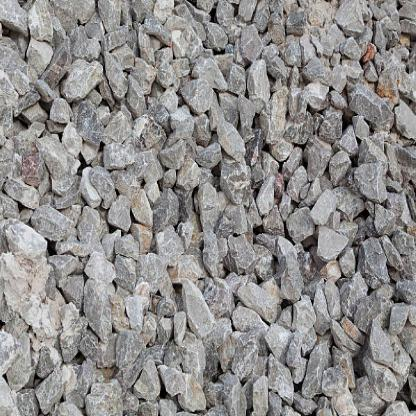Sedimentary_Limestone: (178, 274, 223, 347), (300, 226, 349, 272), (240, 272, 278, 321), (302, 132, 333, 192), (243, 56, 272, 109), (155, 225, 189, 269), (100, 46, 128, 99), (184, 75, 214, 120), (363, 327, 399, 362), (198, 174, 224, 220), (306, 290, 331, 336), (107, 196, 132, 236), (122, 297, 148, 333), (157, 164, 176, 198)
